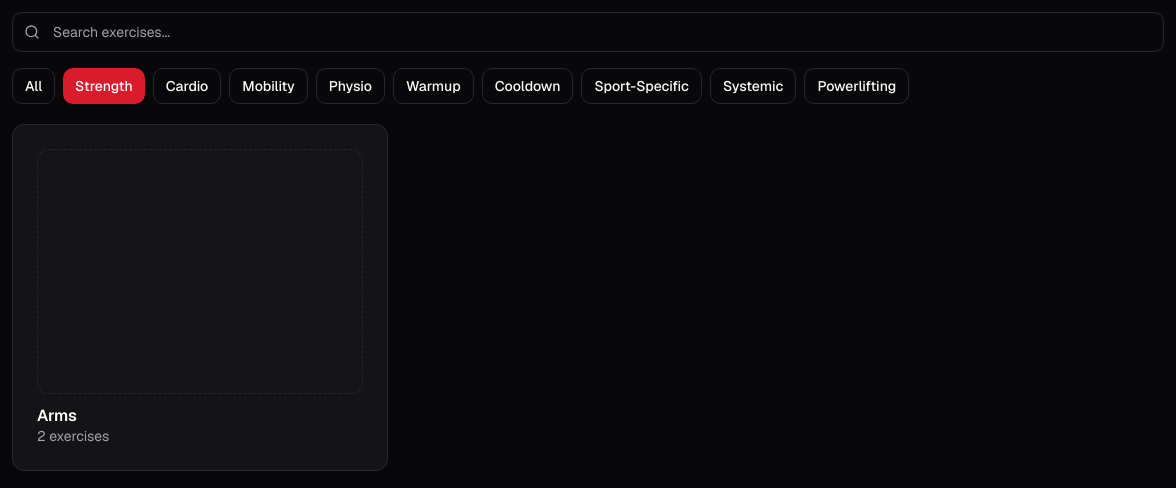
Test: Coach ExerciseLibrary — shared browse › coach scoping: own custom row shows with a Custom badge; a foreign coach's row is absent
Click the button with aria-label "Browse Arms exercises": coordinates (200, 297) left=12, top=124, right=388, bottom=470
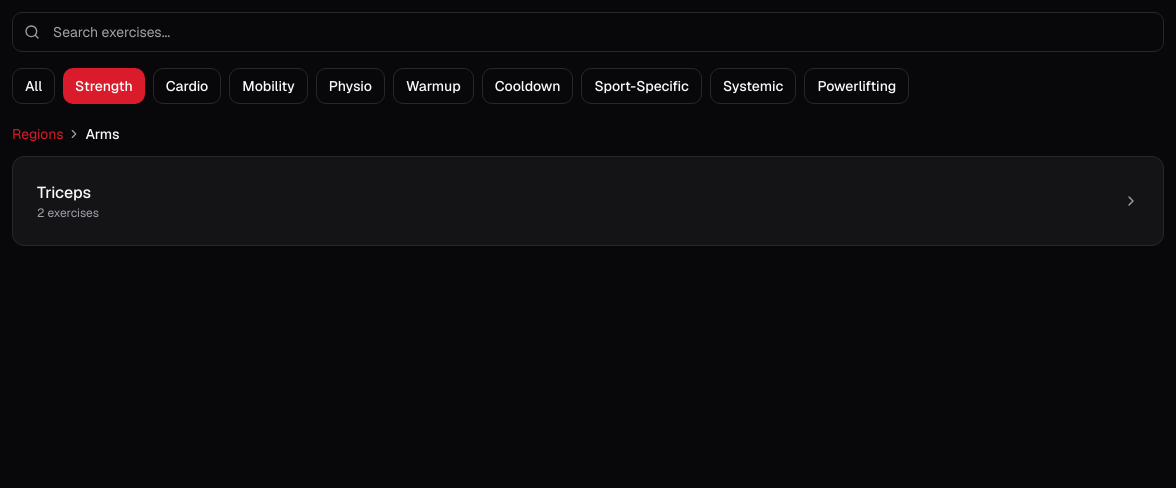
Click the button "Triceps 2 exercises": coordinates (64, 192) left=12, top=156, right=1164, bottom=246
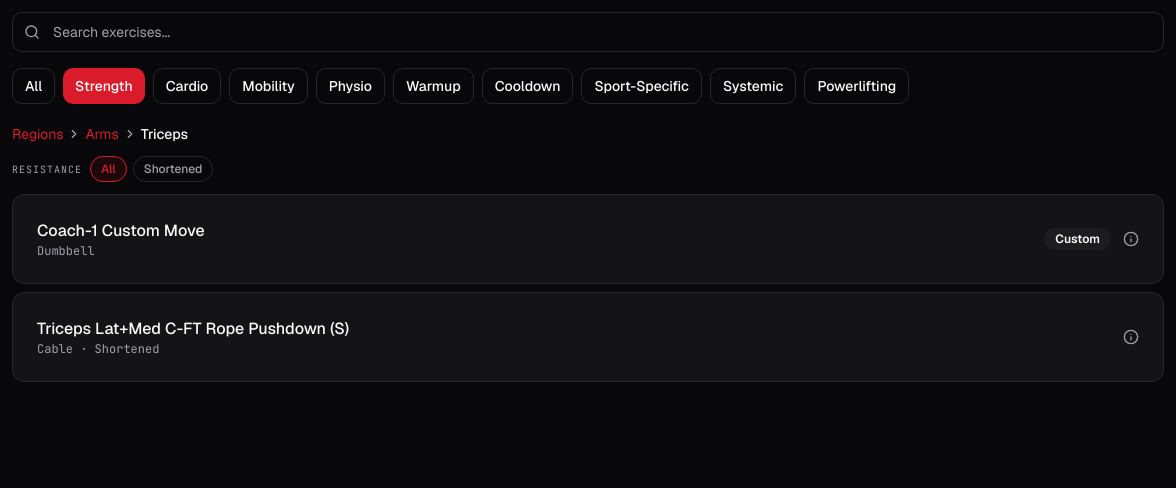
Expected: the text "Coach-1 Custom Move" is shown, left=37, top=220, right=205, bottom=241
Expected: the text "Custom" is shown, left=37, top=220, right=205, bottom=241
